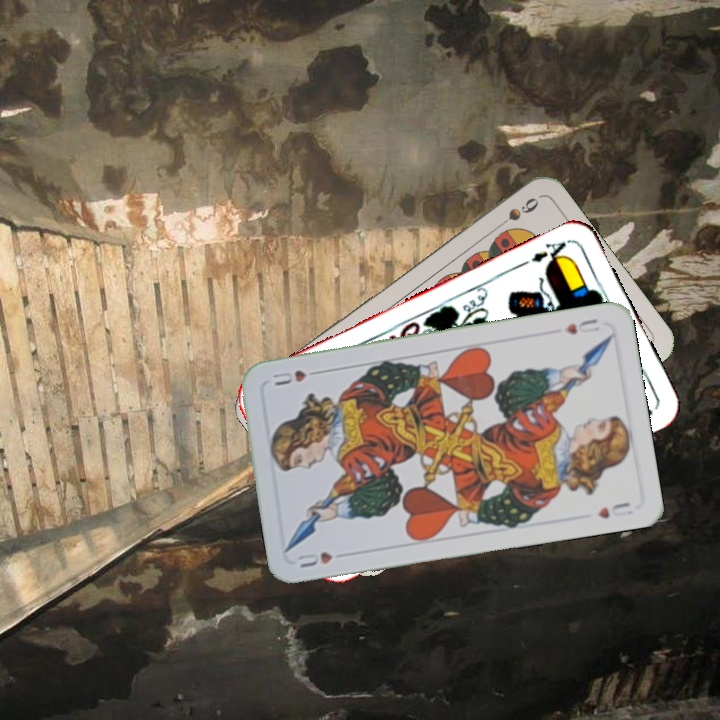EA: (527, 235, 574, 269)
HU: (293, 547, 335, 571), (560, 314, 603, 337)
S9: (489, 193, 542, 234)
